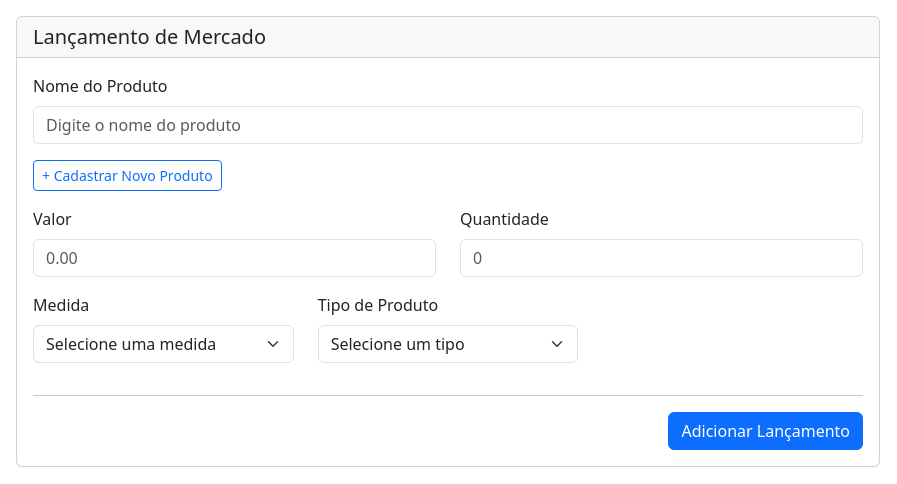
Test: LancamentoMercado Component › Submissão de formulário › deve limpar formulário após submissão bem-sucedida
In the field labelled "Nome do Produto": (448, 125) 33,106 -> 863,144, type "Arroz"
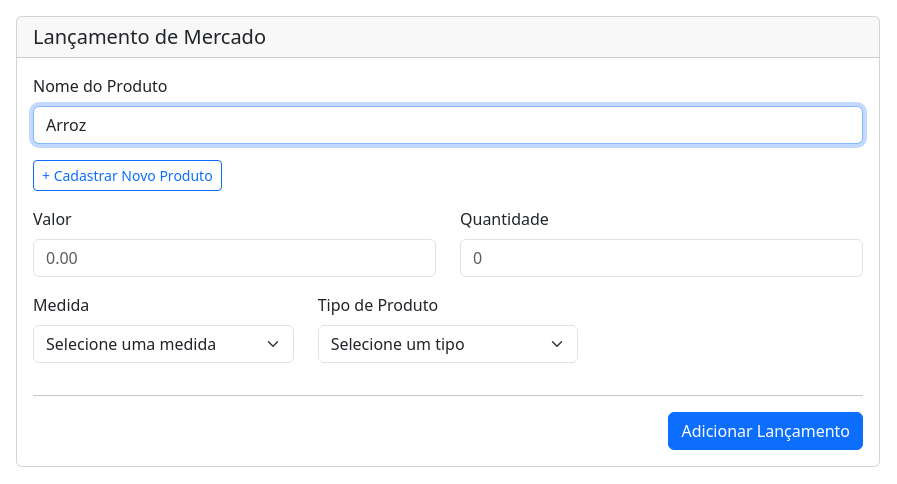
In the number field labelled "Valor": (234, 258) 33,239 -> 436,277, type "10.50"
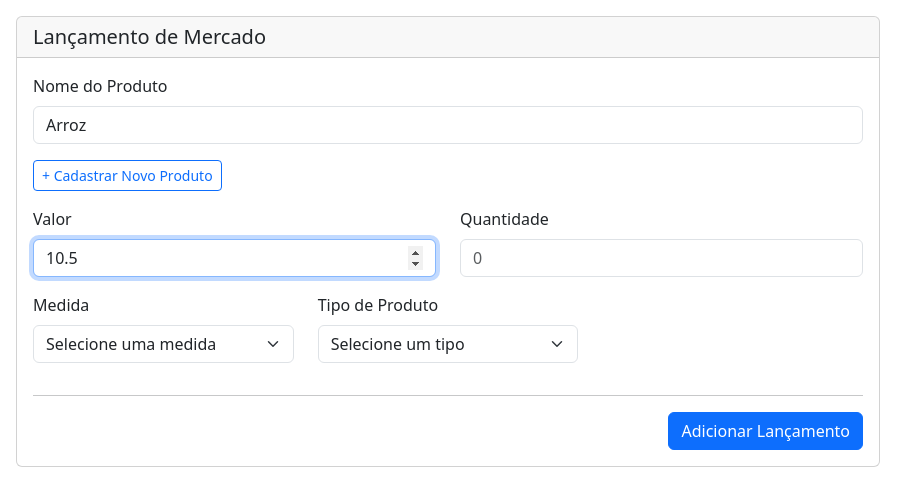
In the number field labelled "Quantidade": (662, 258) 460,239 -> 863,277, type "2"
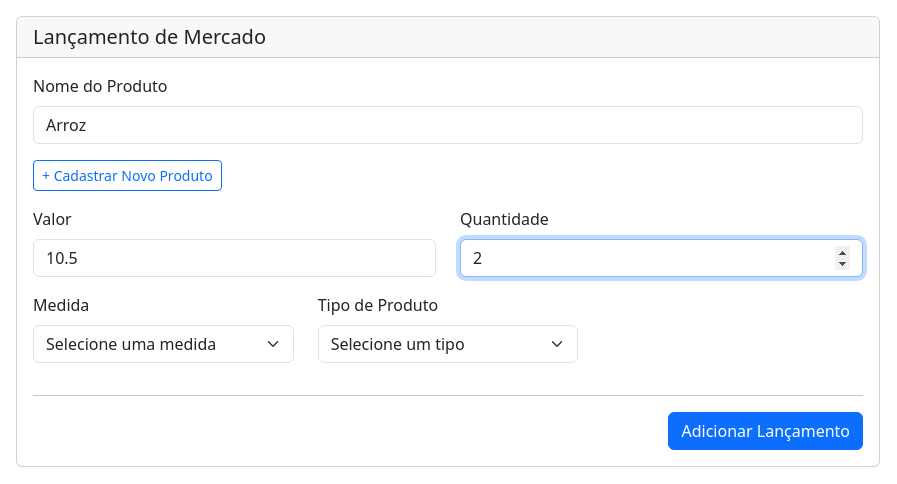
Select "Quilogramas (kg)" in the dropdown labelled "Medida": (163, 344) 33,325 -> 294,363
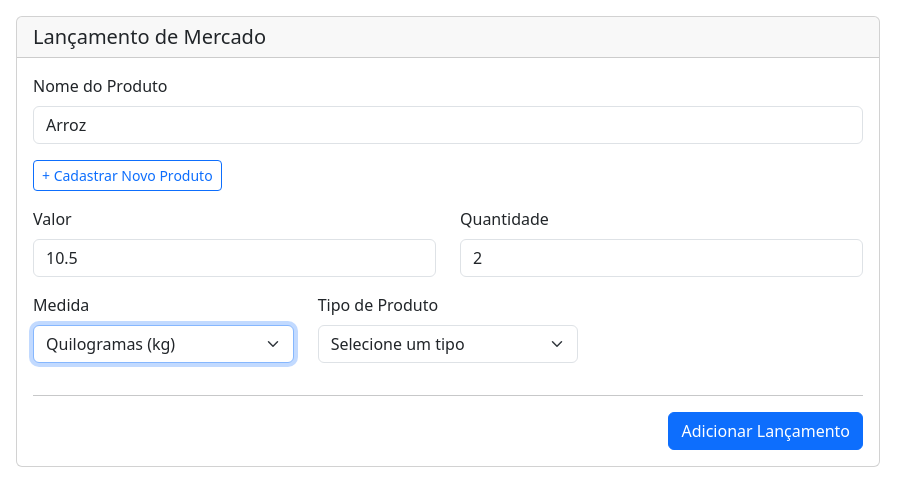
Select "Alimentos Gerais" in the dropdown labelled "Tipo de Produto": (448, 344) 318,325 -> 578,363
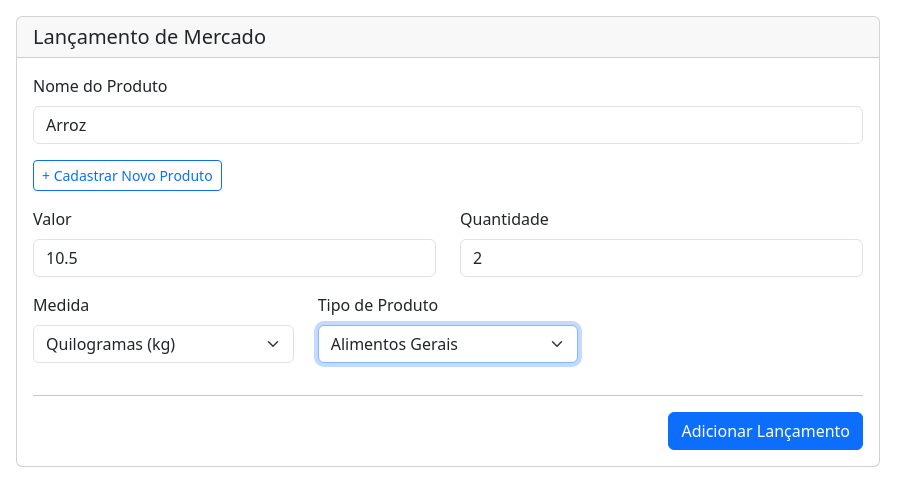
Click the button "Adicionar Lançamento": (766, 431) 668,412 -> 863,450
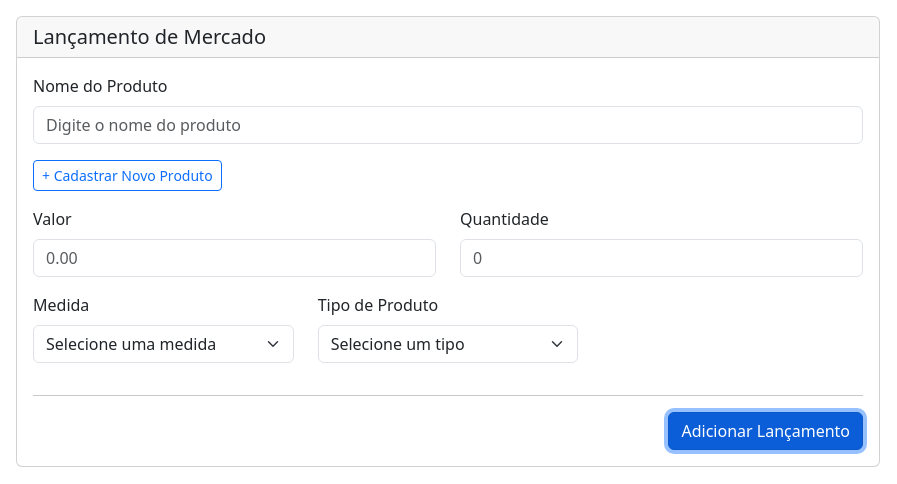
Now the field labelled "Nome do Produto" is empty, box 33,106 -> 863,144
Now the number field labelled "Valor" is not empty, box 33,239 -> 436,277
Now the number field labelled "Quantidade" is not empty, box 460,239 -> 863,277
